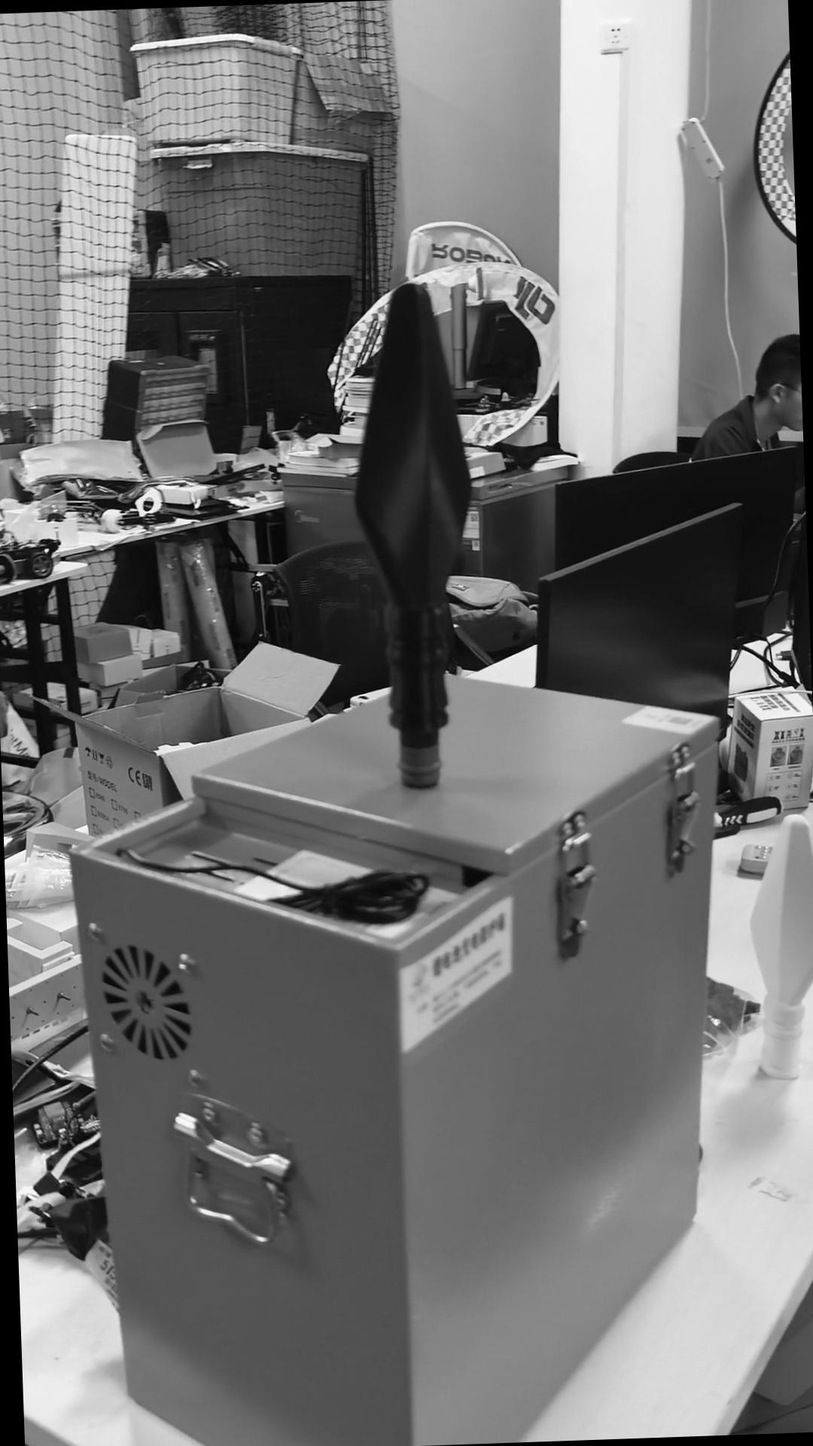base: (397, 745, 443, 789)
